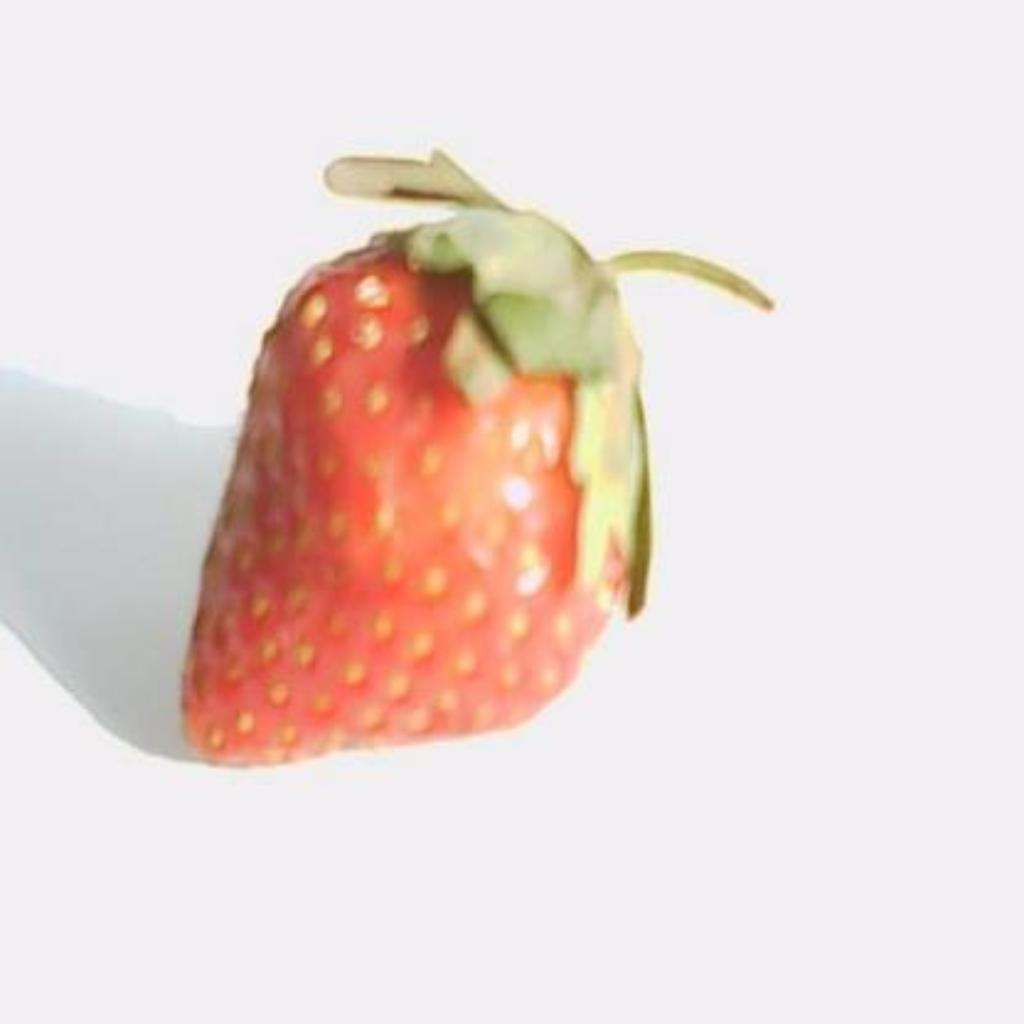strawberry: (182, 152, 774, 763)
